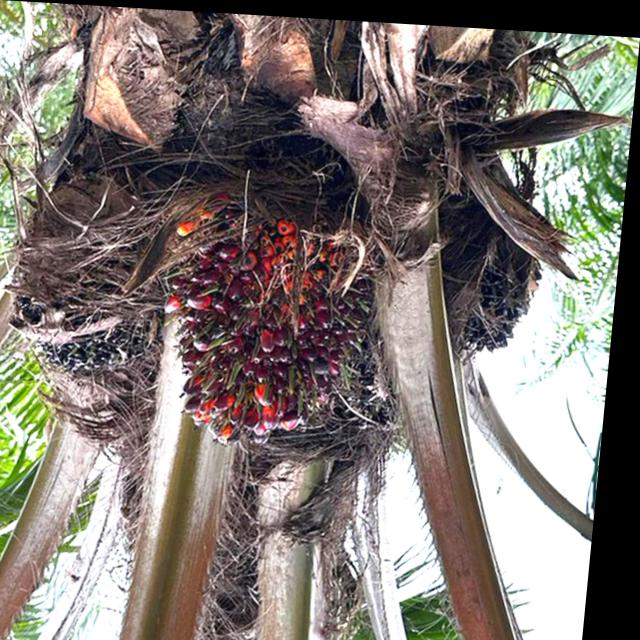ripe: (142, 189, 408, 469)
